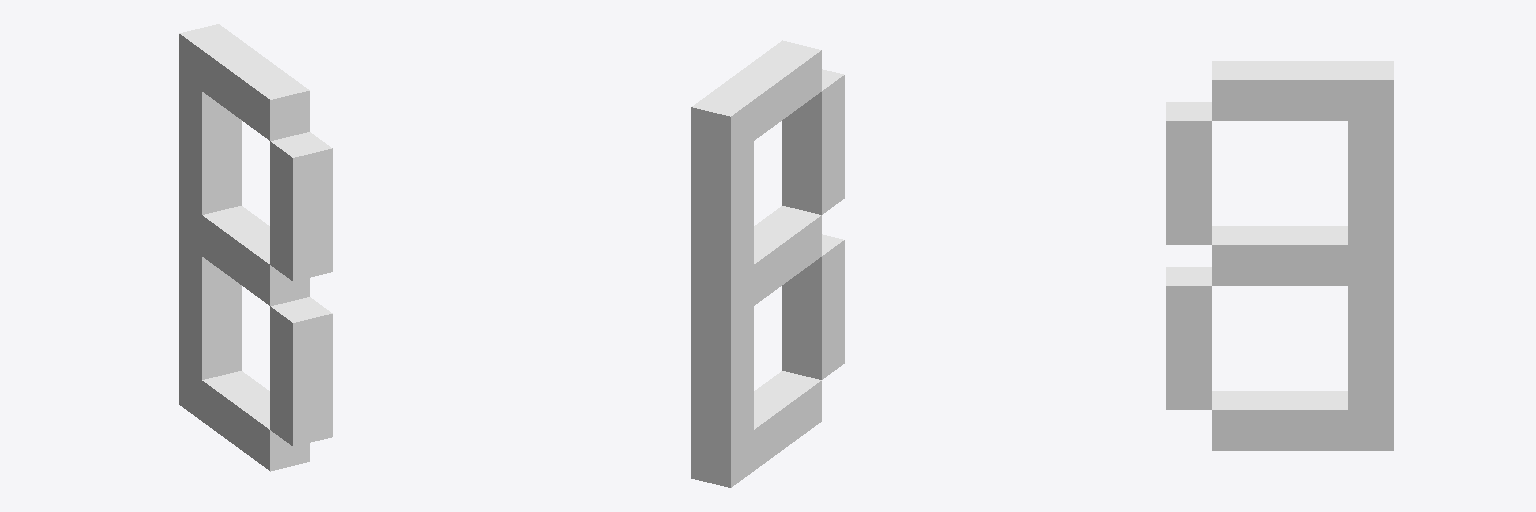
3 views of the same model, side by side, from view 1: azimuth 30°, elevation 25°; view 2: azimuth 150°, elevation 25°; view 3: azimuth 270°, elevation 25° (orthographic).
Visible parts, largest first — view 1: object 1; view 2: object 1; view 3: object 1.
Boxes of the visible parts, x1,y1,x2,y2 form: object 1: [179, 24, 332, 471]; object 1: [691, 40, 844, 487]; object 1: [1166, 61, 1393, 450].
Size of the model in its own units: 0.1 by 0.9 by 0.5.
Materials: 1 (1 with a texture image).